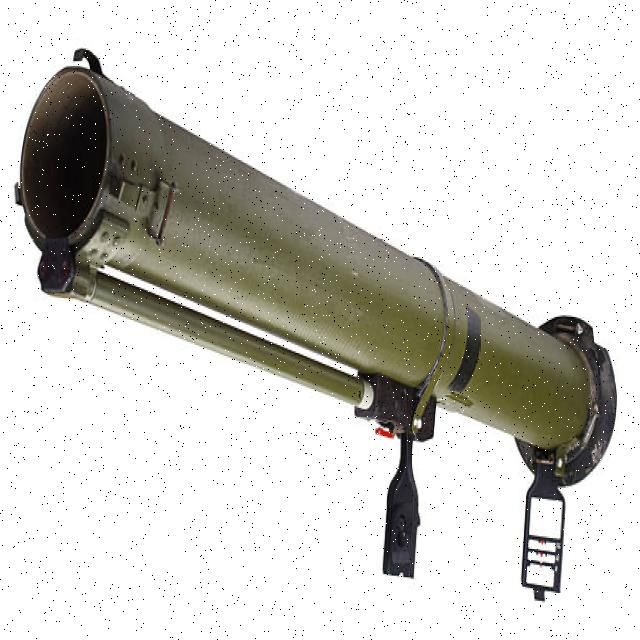bazooka: (11, 46, 621, 619)
